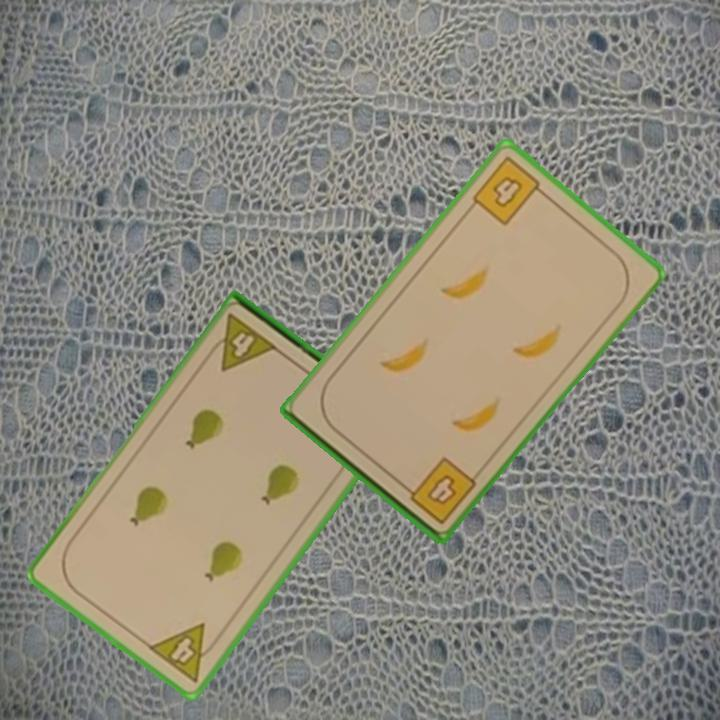4b: (468, 152, 550, 229), (397, 453, 479, 527)
4p: (144, 619, 224, 686), (202, 310, 280, 375)
